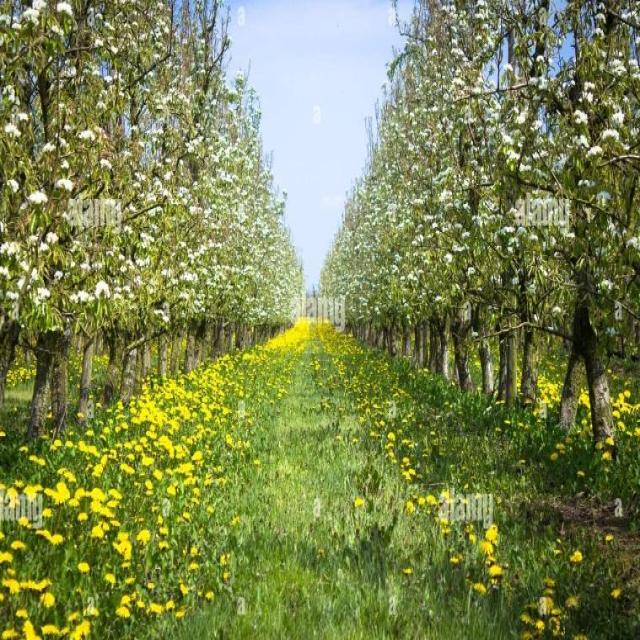row: (0, 317, 623, 639)
